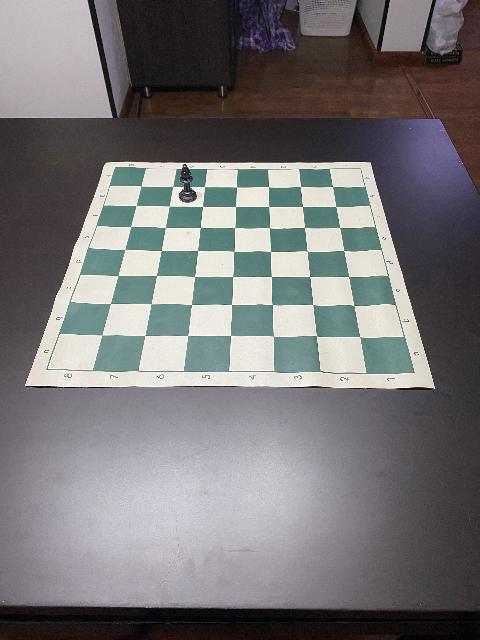black-bishop: (177, 163, 197, 203)
board: (25, 162, 435, 390)
